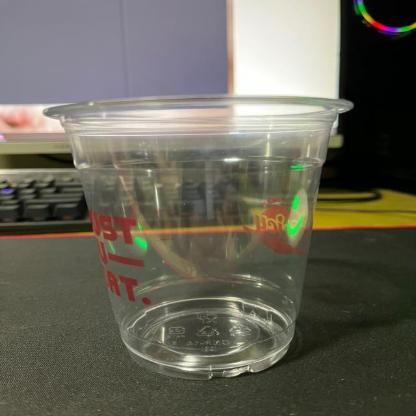Plastic Cup: (43, 93, 356, 382)
